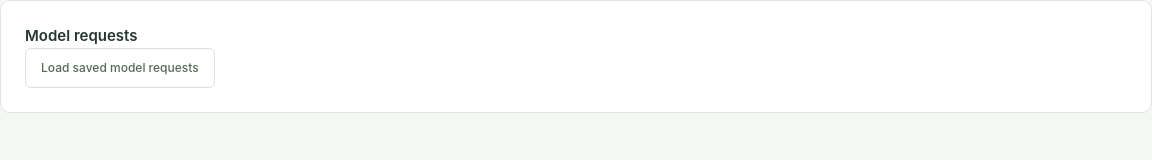
model requests are loaded on demand and show request, response, and usage
Click the button "Load saved model requests" at (120, 68), box [25, 48, 215, 88]
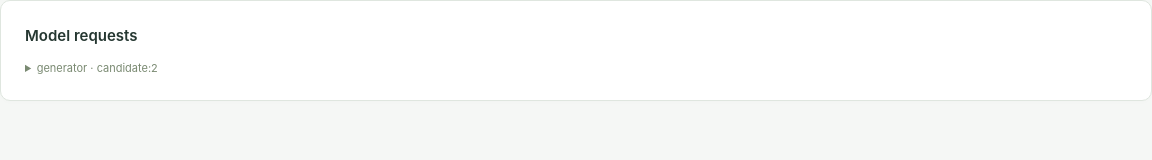
Now the heading "generator · candidate:2" is shown, box [37, 60, 158, 74]
